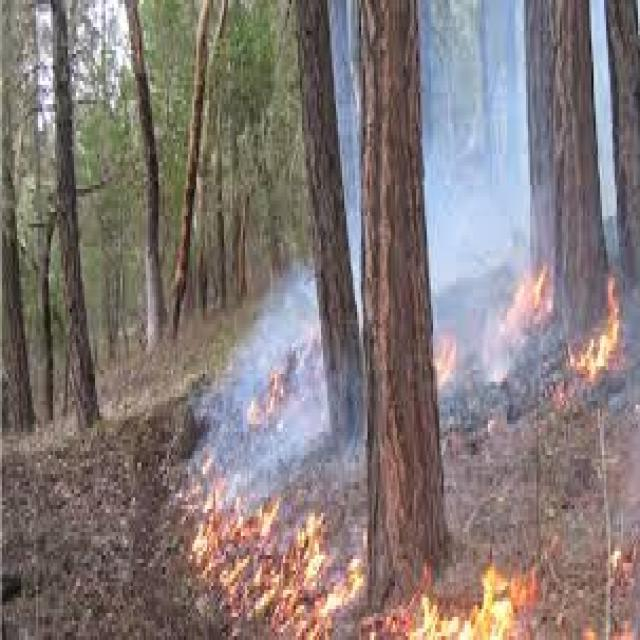Fire: (209, 265, 316, 636), (156, 464, 364, 636), (436, 199, 554, 480), (497, 254, 634, 413), (366, 566, 561, 640)
Smoke: (434, 1, 528, 400), (436, 17, 516, 244), (222, 295, 316, 479)
